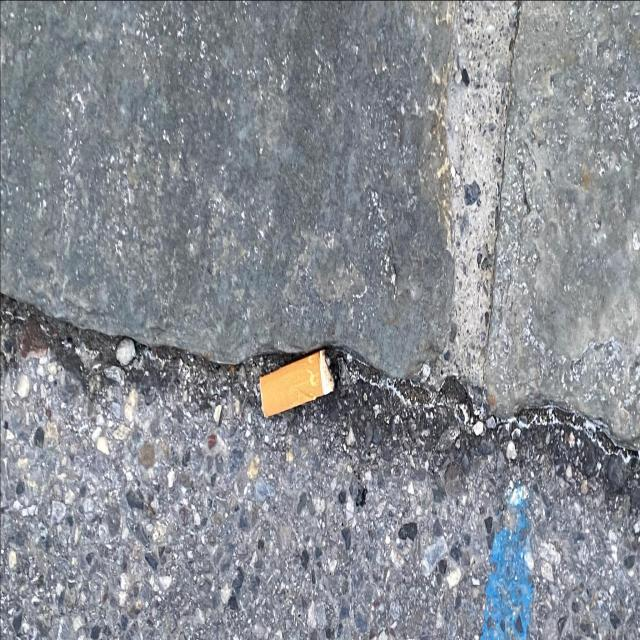other waste: (259, 347, 337, 420)
